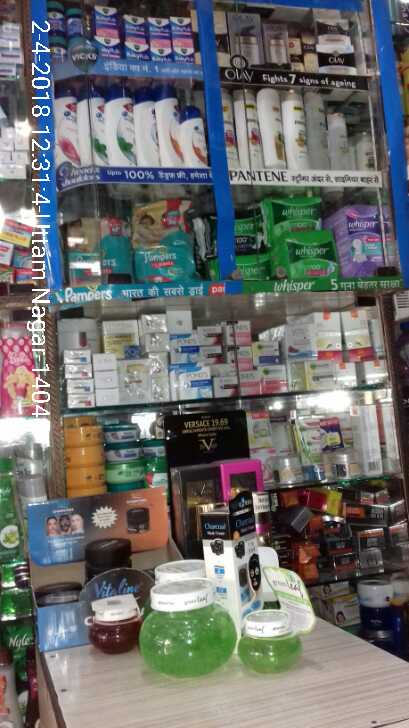vicks: (47, 1, 198, 66)
